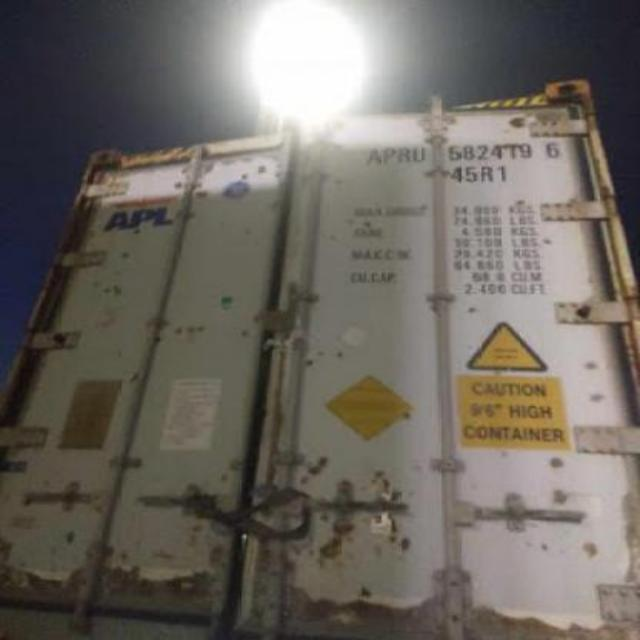2: (474, 139, 490, 165)
4: (491, 134, 504, 164)
5: (440, 140, 460, 164)
6: (544, 132, 562, 164)
7: (500, 134, 518, 164)
8: (458, 138, 474, 166)
9: (516, 134, 532, 162)
A: (358, 138, 382, 170)
P: (378, 139, 394, 171)
R: (394, 139, 412, 171)
U: (408, 138, 428, 172)
